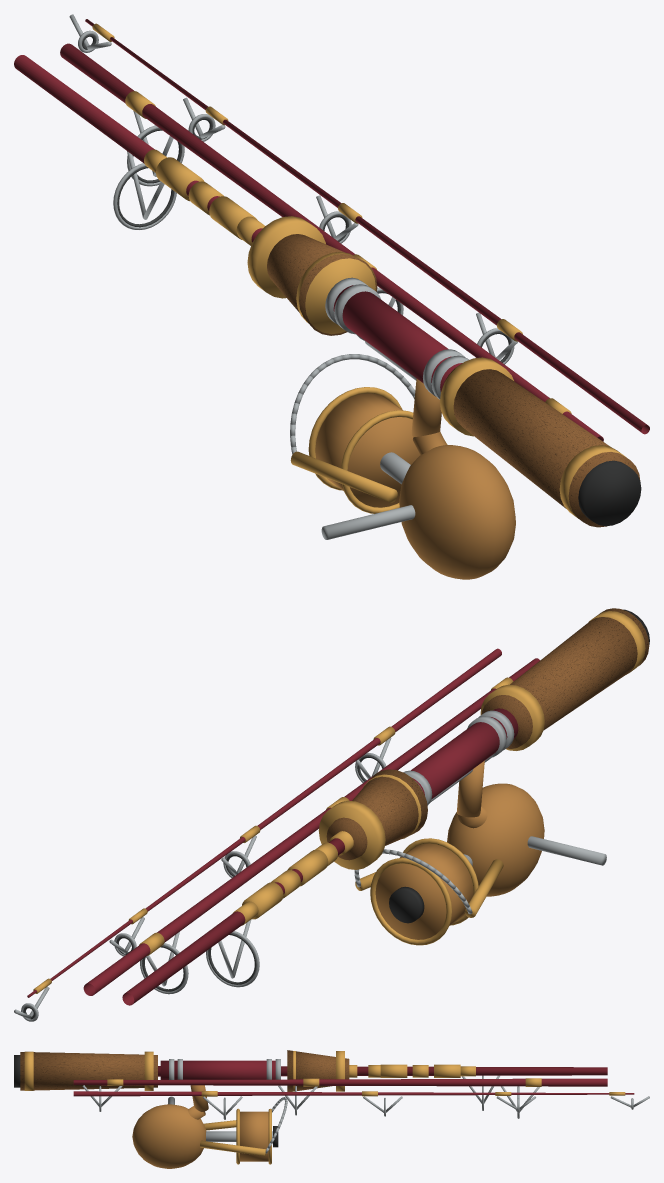
File: heron_folded.glb
The picture shows the model from 3 angles, top to bottom: view 1: azimuth 30°, elevation 25°; view 2: azimuth 150°, elevation 25°; view 3: azimuth 270°, elevation 25°; orthographic projection. The views are drawn at different scales.
Visible parts, largest first — view 1: Folded rod; view 2: Folded rod; view 3: Folded rod.
Boxes of the visible parts, <box> form: Folded rod: <box>14,14,649,579</box>; Folded rod: <box>14,608,649,1021</box>; Folded rod: <box>14,1050,649,1168</box>.
Size of the model in its own units: 0.1577 by 0.1428 by 0.7147.
8 materials, 1 textured.
